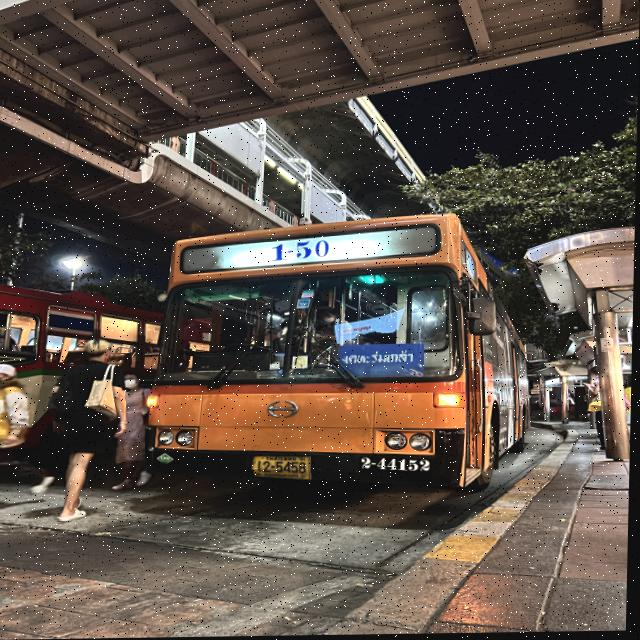BMTA-bus: (123, 215, 537, 495)
Bus-Line-Number: (265, 240, 336, 264)
Destination-Sign-Normal: (339, 344, 426, 379)
